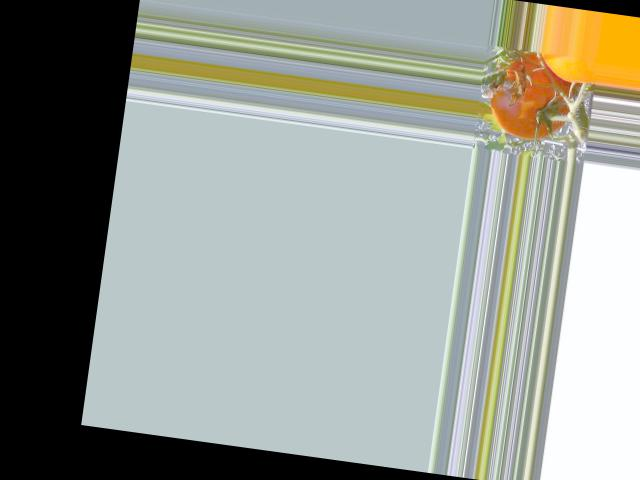tomato: (483, 47, 576, 144)
